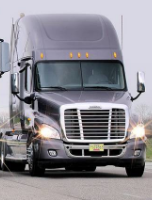truck: (1, 3, 148, 179)
